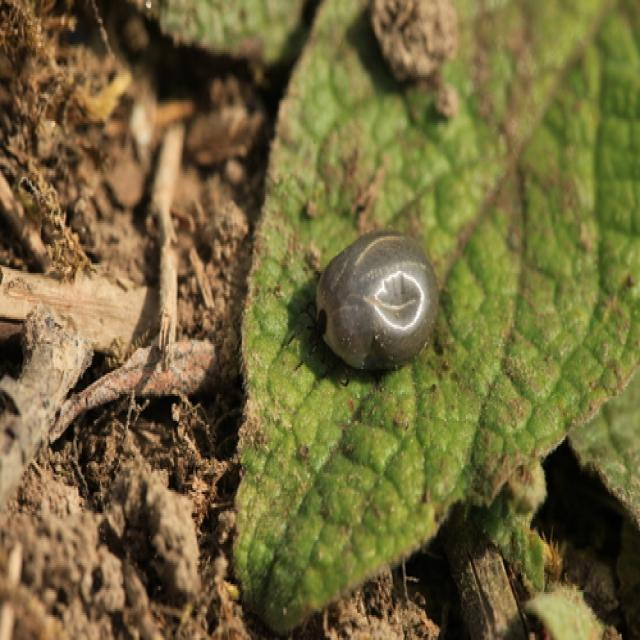Ixodes Ricinus-F-Fed: (283, 225, 438, 388)
